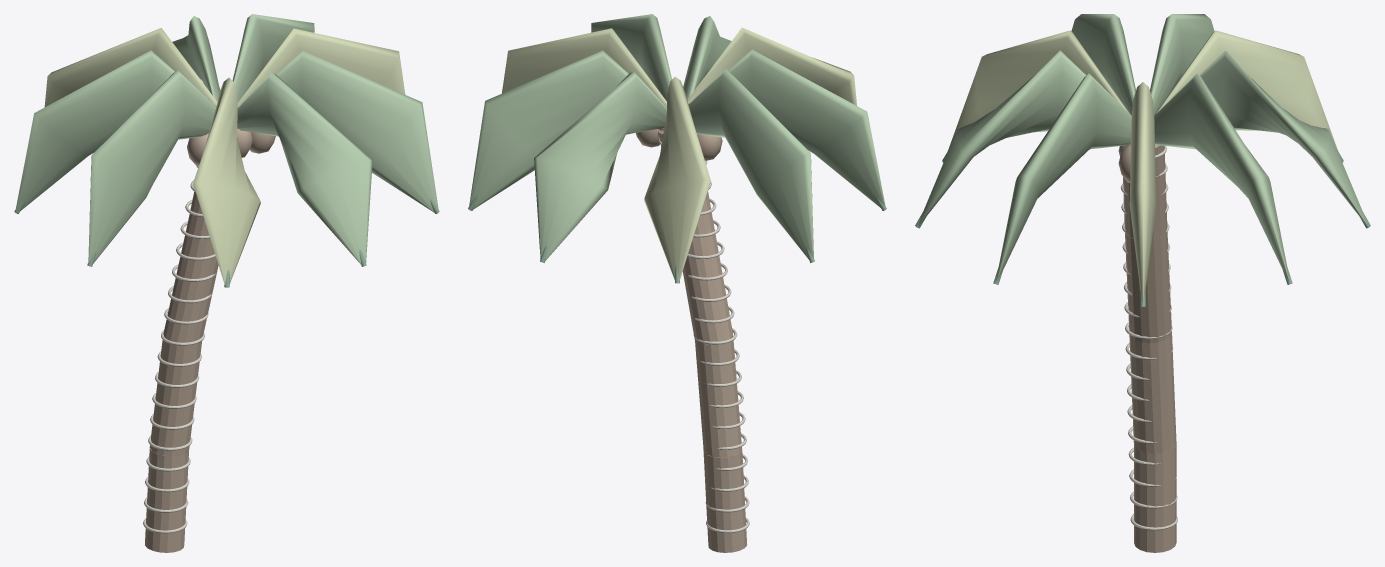
Rendered from library_tree_palm.glb.
3 renders of one model, left to right at view 1: azimuth 30°, elevation 25°; view 2: azimuth 150°, elevation 25°; view 3: azimuth 270°, elevation 25°, orthographic. The views are drawn at different scales.
Parts seen in each view (by area): view 1: decor_709568_matte, decor_9bab72_matte, decor_806751_matte, decor_aaa493_matte; view 2: decor_709568_matte, decor_9bab72_matte, decor_806751_matte, decor_aaa493_matte; view 3: decor_709568_matte, decor_9bab72_matte, decor_806751_matte, decor_aaa493_matte.
Part boxes in pixels (x1=…): decor_709568_matte: x1=15, y1=14, x2=438, y2=264; decor_9bab72_matte: x1=44, y1=27, x2=405, y2=284; decor_806751_matte: x1=145, y1=128, x2=275, y2=552; decor_aaa493_matte: x1=143, y1=166, x2=215, y2=533; decor_709568_matte: x1=469, y1=14, x2=885, y2=260; decor_9bab72_matte: x1=502, y1=27, x2=856, y2=280; decor_806751_matte: x1=636, y1=128, x2=746, y2=552; decor_aaa493_matte: x1=658, y1=138, x2=749, y2=533; decor_709568_matte: x1=918, y1=14, x2=1367, y2=281; decor_9bab72_matte: x1=948, y1=30, x2=1337, y2=303; decor_806751_matte: x1=1118, y1=143, x2=1176, y2=552; decor_aaa493_matte: x1=1120, y1=146, x2=1177, y2=530.
Size of the model in its own units: 2.94 by 3.81 by 2.99.
